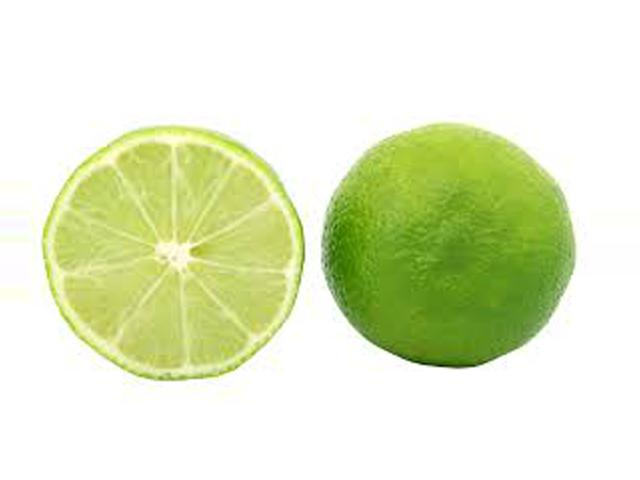lemon: (307, 111, 591, 371)
